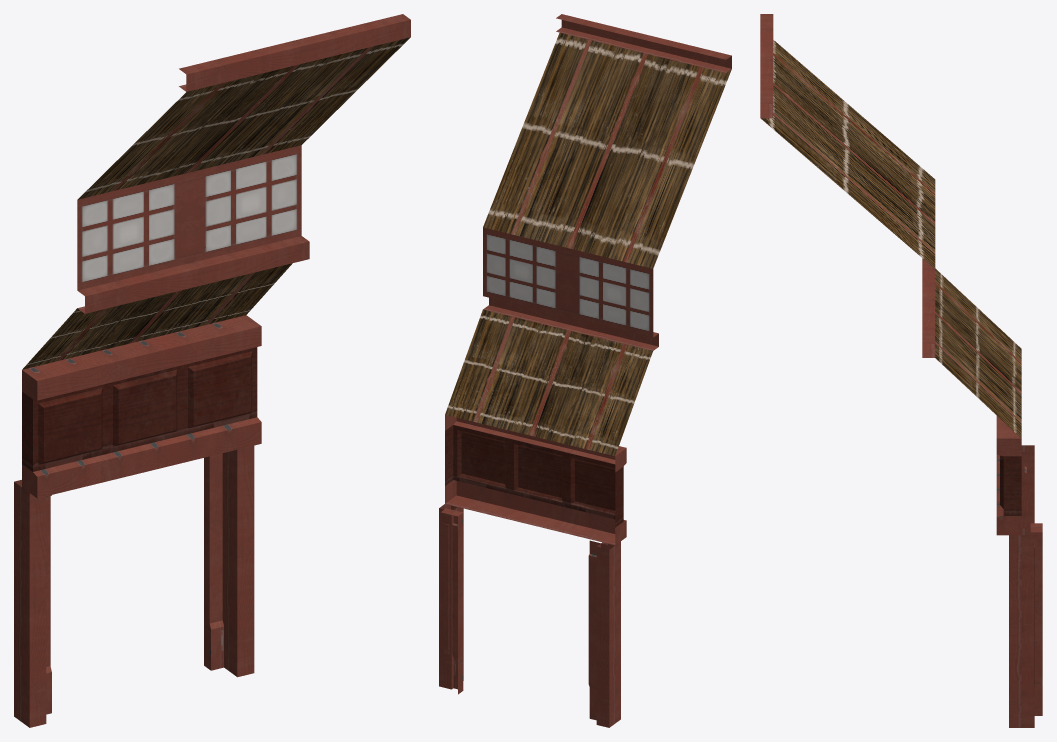
Rendered from WallOpen.fbx.
The picture shows the model from 3 angles, left to right: view 1: azimuth 30°, elevation 25°; view 2: azimuth 150°, elevation 25°; view 3: azimuth 270°, elevation 25°; orthographic projection. The views are drawn at different scales.
Visible parts, largest first — view 1: WallOpen; view 2: WallOpen; view 3: WallOpen.
Boxes of the visible parts, x1,y1,x2,y2 form: WallOpen: (14, 14, 410, 727); WallOpen: (439, 14, 731, 727); WallOpen: (760, 14, 1042, 727).
Size of the model in its own units: 2.05 by 6.5 by 2.65.
